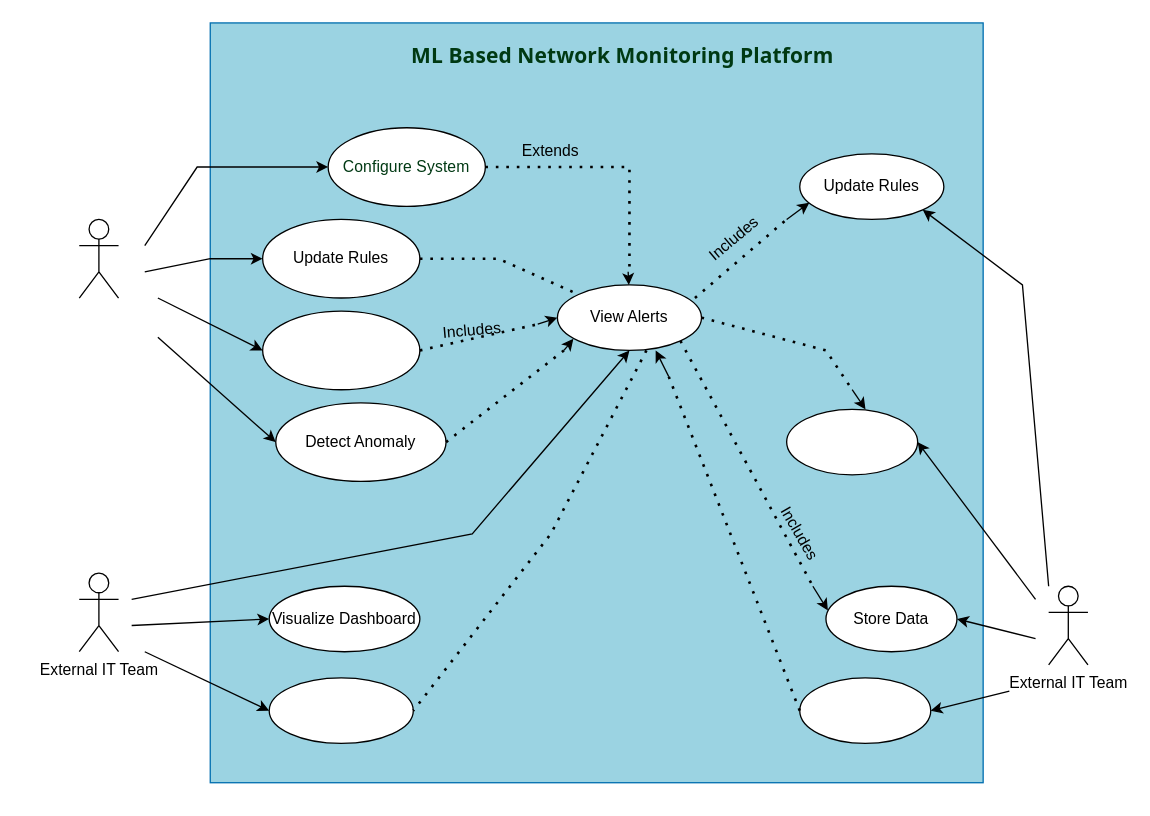
Some shapes in this 1150 by 816 pixel diagram are drawn without their labels. The shapes that lost their labels are listed below. From the top down, each one's centre as x and y in pixels, then its label:
the point at 98,258: Network Administrator
the point at 340,350: Monitor Devices
the point at 851,441: Generate Report
the point at 340,710: Notify Team
the point at 864,710: Enforce Report
